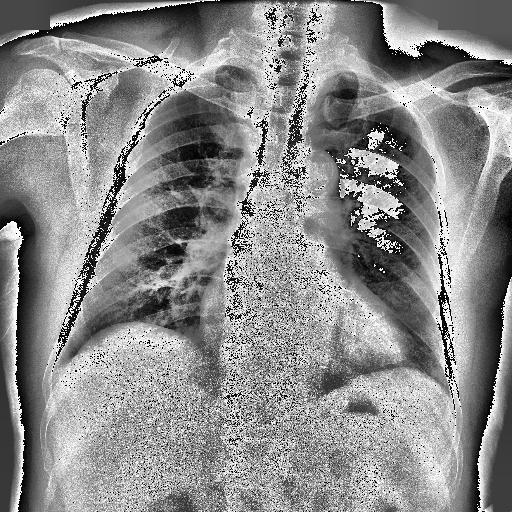0- Aortic enlargement: (284, 148, 342, 222), (282, 147, 342, 200), (290, 146, 340, 195)
2- Calcification: (304, 151, 337, 197)
3- Cardiomegaly: (196, 288, 422, 374), (201, 282, 412, 370), (194, 306, 410, 370)
